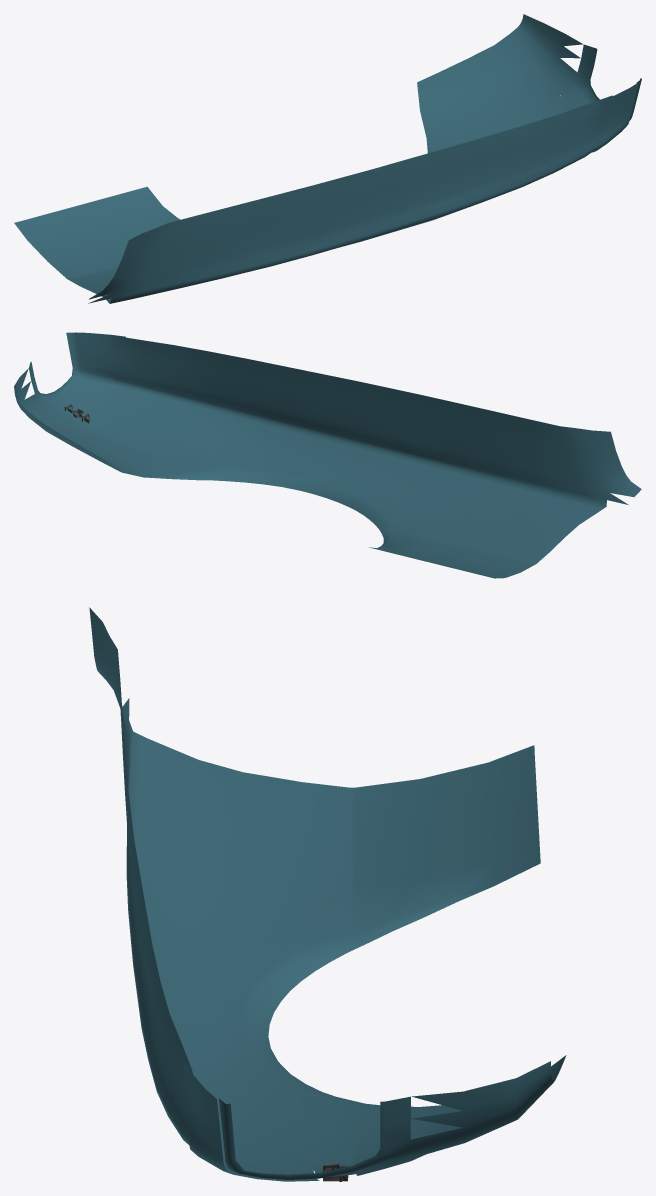
File: CamaroFrontFenderRight.obj
3 views of the same model, one above another, from view 1: azimuth 30°, elevation 25°; view 2: azimuth 150°, elevation 25°; view 3: azimuth 270°, elevation 25° (orthographic). The views are drawn at different scales.
Size of the model in its own units: 7.31 by 1.29 by 2.78.
